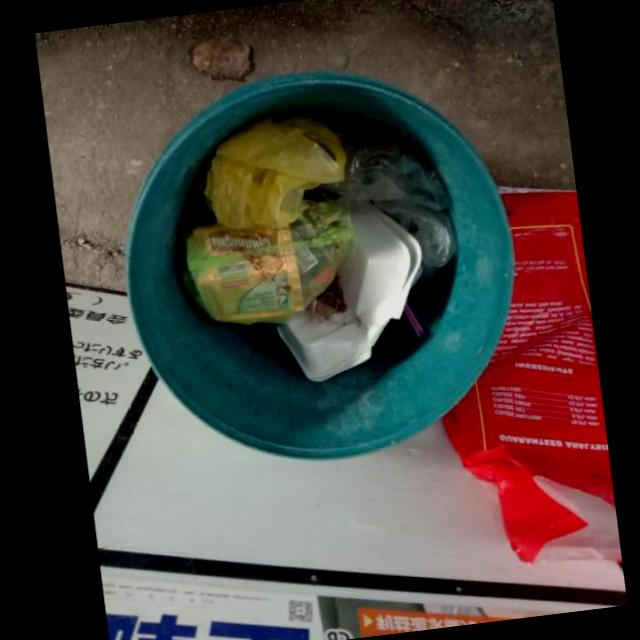ong_hut_nhua: (403, 301, 424, 336)
tui_ni_long: (317, 116, 455, 278), (183, 198, 355, 324), (203, 116, 347, 230)
xop: (276, 195, 422, 381)
